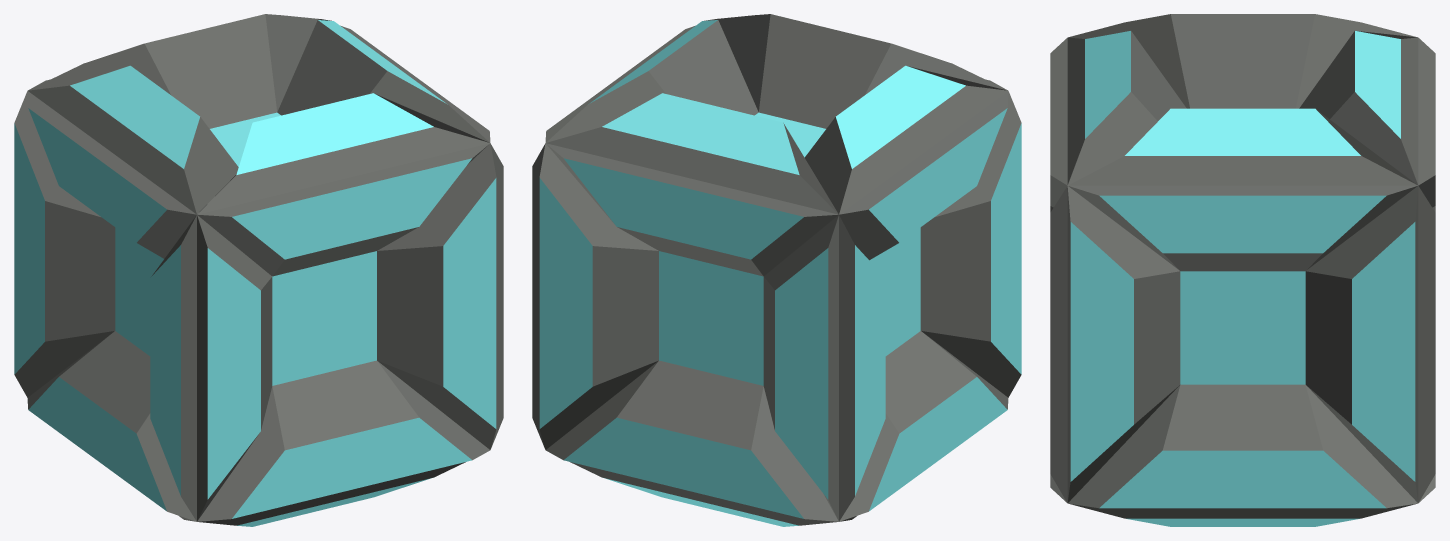
Rendered from FrostiumEssence.fbx.
3 renders of one model, left to right at view 1: azimuth 30°, elevation 25°; view 2: azimuth 150°, elevation 25°; view 3: azimuth 270°, elevation 25°, orthographic. The views are drawn at different scales.
Visible parts, largest first — view 1: Cube; view 2: Cube; view 3: Cube.
Part boxes in pixels (x1,y1,x2,y2): Cube: (14,14,503,526); Cube: (532,14,1021,526); Cube: (1050,14,1435,526).
Size of the model in its own units: 177 by 212 by 177.
